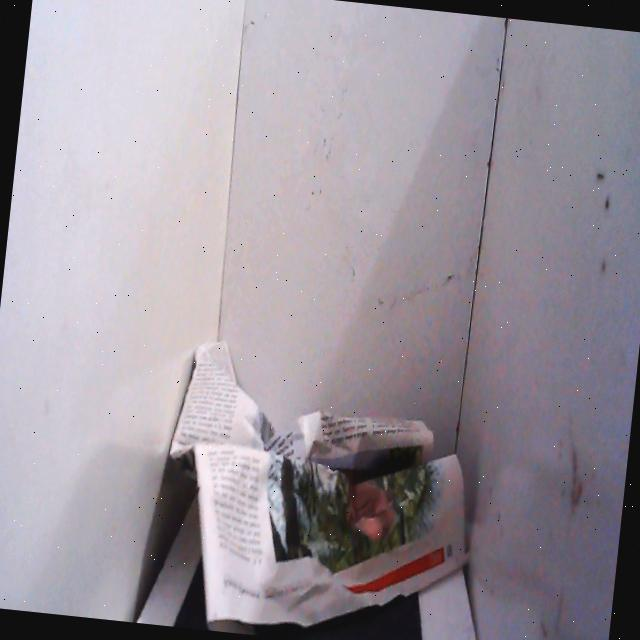papel: (145, 329, 493, 640)
